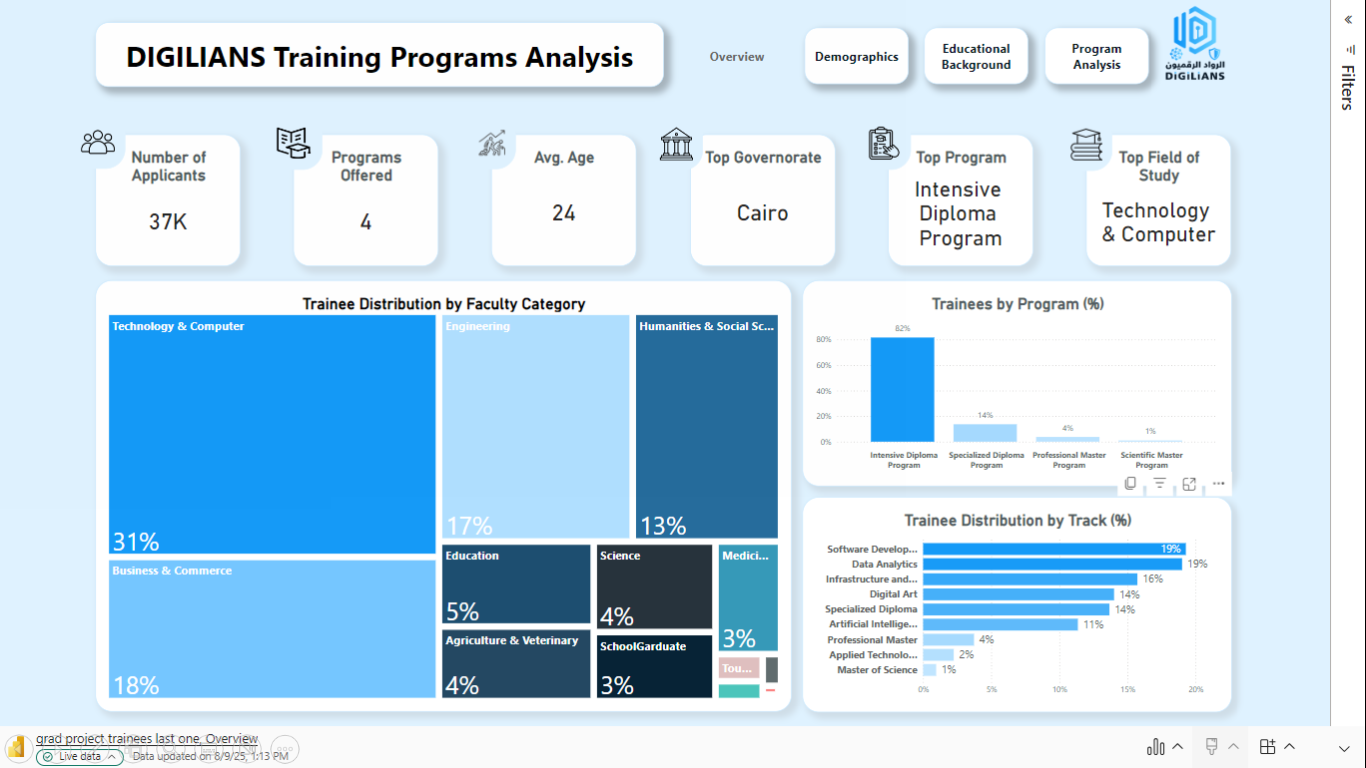

The page's visual inventory and layout, read from the dashboard file:
{"tool":"powerbi","page":{"name":"Overview","canvas":[1800,1100],"ordinal":0},"visuals":[{"type":"card","title":"Number of Applicants","fields":{"Values":["CountNonNull(Sheet1 (2).National Id)"]},"box":[38,203.9,220,200],"z":0},{"type":"card","title":"Programs Offered","fields":{"Values":["Trainees.Programs Count"]},"box":[338,203.9,220,200],"z":1000},{"type":"card","title":"Top Governorate","fields":{"Values":["Trainees.Top Governorate"]},"box":[938,203.9,220,200],"z":2000},{"type":"card","title":"Avg. Age","fields":{"Values":["Trainees.Average Age"]},"box":[638,203.9,220,200],"z":3000},{"type":"card","title":"Top Program","fields":{"Values":["Trainees.Top Program Name"]},"box":[1238,203.9,220,200],"z":4000},{"type":"card","title":"Top Field of Study","fields":{"Values":["Trainees.Top Faculty Category"]},"box":[1538,203.9,220,200],"z":5000},{"type":"treemap","title":"Trainee Distribution by Faculty Category","fields":{"Group":["Sheet1 (2).Faculty_category"],"Values":["CountNonNull(Sheet1 (2).Faculty_category)"]},"box":[38,424,1054,654],"z":6000},{"type":"clusteredColumnChart","title":"Trainees by Program (%)","fields":{"Category":["Sheet1 (2).Program"],"Y":["CountNonNull(Sheet1 (2).National Id)"]},"box":[1108,424,650,312],"z":7000},{"type":"barChart","title":"Trainee Distribution by Track (%)","fields":{"Category":["Trainees.Track"],"Y":["Divide(CountNonNull(Trainees.National Id), ScopedEval(CountNonNull(Trainees.National Id), []))"]},"box":[1108,752,650,326],"z":8000},{"type":"image","box":[1606.7,0,192.4,132.6],"z":9000},{"type":"actionButton","title":"overview","box":[930.4,41.7,158,86],"z":10000},{"type":"actionButton","title":"overview","box":[1111.7,41.7,158,86],"z":11000},{"type":"actionButton","title":"overview","box":[1293.1,41.7,158,86],"z":12000},{"type":"actionButton","title":"overview","box":[1474.4,41.7,158,86],"z":13000},{"type":"shape","box":[38,34,860,98],"z":14000},{"type":"image","box":[0,174.3,84.3,81.4],"z":15000},{"type":"image","box":[295.7,175.7,85.7,81.4],"z":16000},{"type":"image","box":[602.9,175.7,72.9,80],"z":17000},{"type":"image","box":[877.1,177.1,80,80],"z":18000},{"type":"image","box":[1191.4,175.7,81.4,81.4],"z":19000},{"type":"image","box":[1498.6,177.1,78.6,81.4],"z":20000}]}

Visuals, with their boxes on the page's 1800x1100 design canvas (x1, y1, x2, y2). These are canvas units, not pixel positions in the 1366x768 screenshot, which may show the page scaled, cropped or inside an application window:
"Number of Applicants" card: (x1=38, y1=204, x2=258, y2=404)
"Programs Offered" card: (x1=338, y1=204, x2=558, y2=404)
"Top Governorate" card: (x1=938, y1=204, x2=1158, y2=404)
"Avg. Age" card: (x1=638, y1=204, x2=858, y2=404)
"Top Program" card: (x1=1238, y1=204, x2=1458, y2=404)
"Top Field of Study" card: (x1=1538, y1=204, x2=1758, y2=404)
"Trainee Distribution by Faculty Category" treemap: (x1=38, y1=424, x2=1092, y2=1078)
"Trainees by Program (%)" clusteredColumnChart: (x1=1108, y1=424, x2=1758, y2=736)
"Trainee Distribution by Track (%)" barChart: (x1=1108, y1=752, x2=1758, y2=1078)
image: (x1=1607, y1=0, x2=1799, y2=133)
"overview" actionButton: (x1=930, y1=42, x2=1088, y2=128)
"overview" actionButton: (x1=1112, y1=42, x2=1270, y2=128)
"overview" actionButton: (x1=1293, y1=42, x2=1451, y2=128)
"overview" actionButton: (x1=1474, y1=42, x2=1632, y2=128)
shape: (x1=38, y1=34, x2=898, y2=132)
image: (x1=0, y1=174, x2=84, y2=256)
image: (x1=296, y1=176, x2=381, y2=257)
image: (x1=603, y1=176, x2=676, y2=256)
image: (x1=877, y1=177, x2=957, y2=257)
image: (x1=1191, y1=176, x2=1273, y2=257)
image: (x1=1499, y1=177, x2=1577, y2=258)
